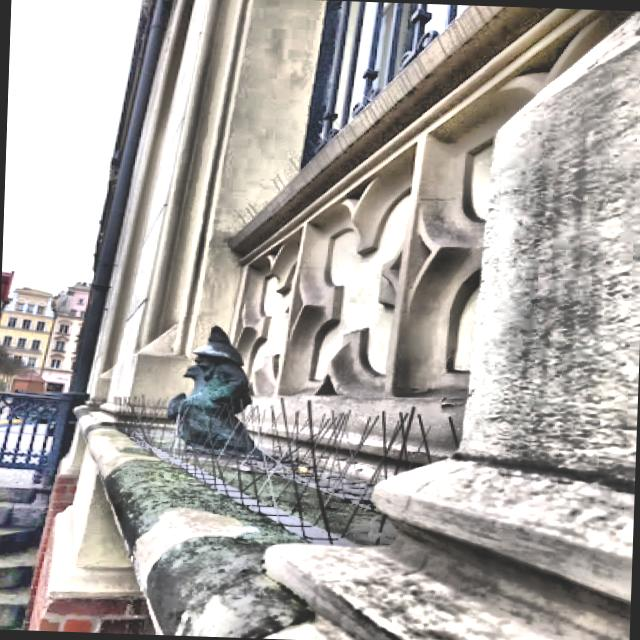Golebnik: (175, 326, 255, 456)
